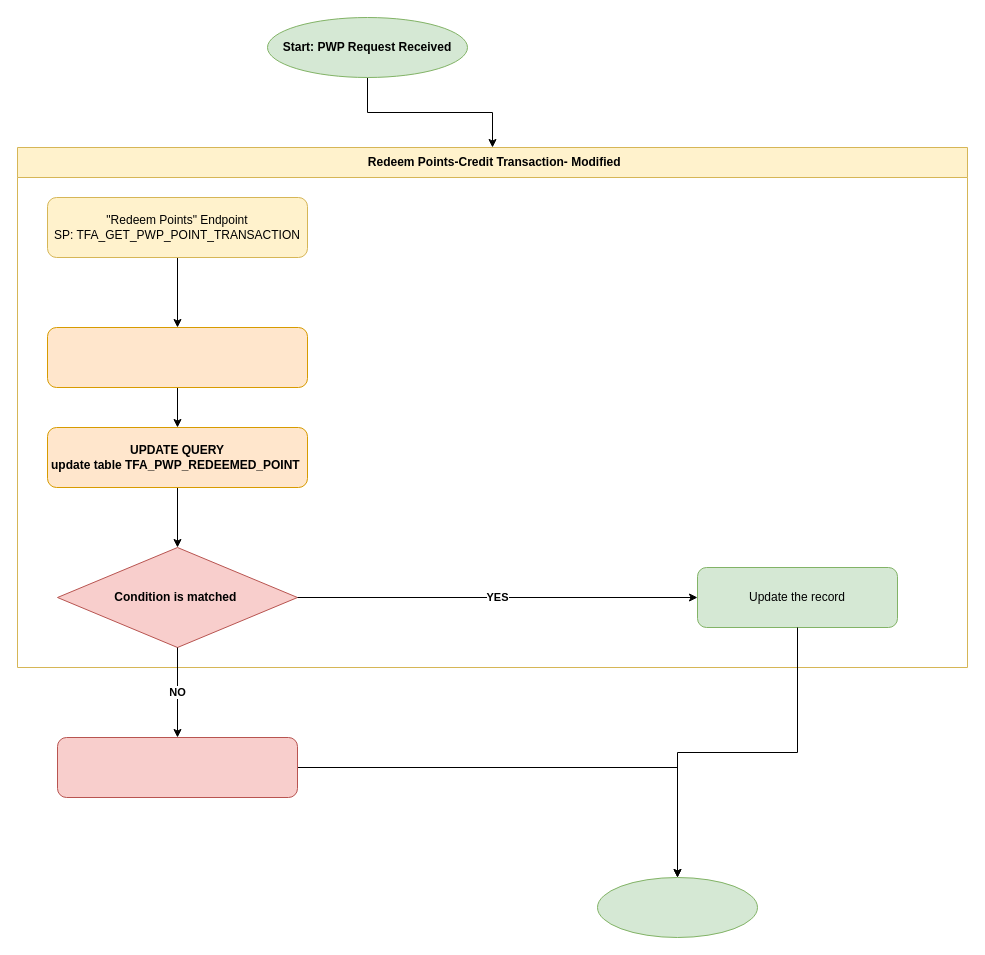
Image size: 985x955. Some labels were removed from this diagram. The shapes that lost their labels are listed below. From the top down, each one's centre as x and y in pixels, then its label:
At (x=177, y=357): "SELECT QUERY Change the filter".
At (x=177, y=767): "Duplicate Detected Exclude from Matching".
At (x=677, y=907): "End: Credit Posted".
